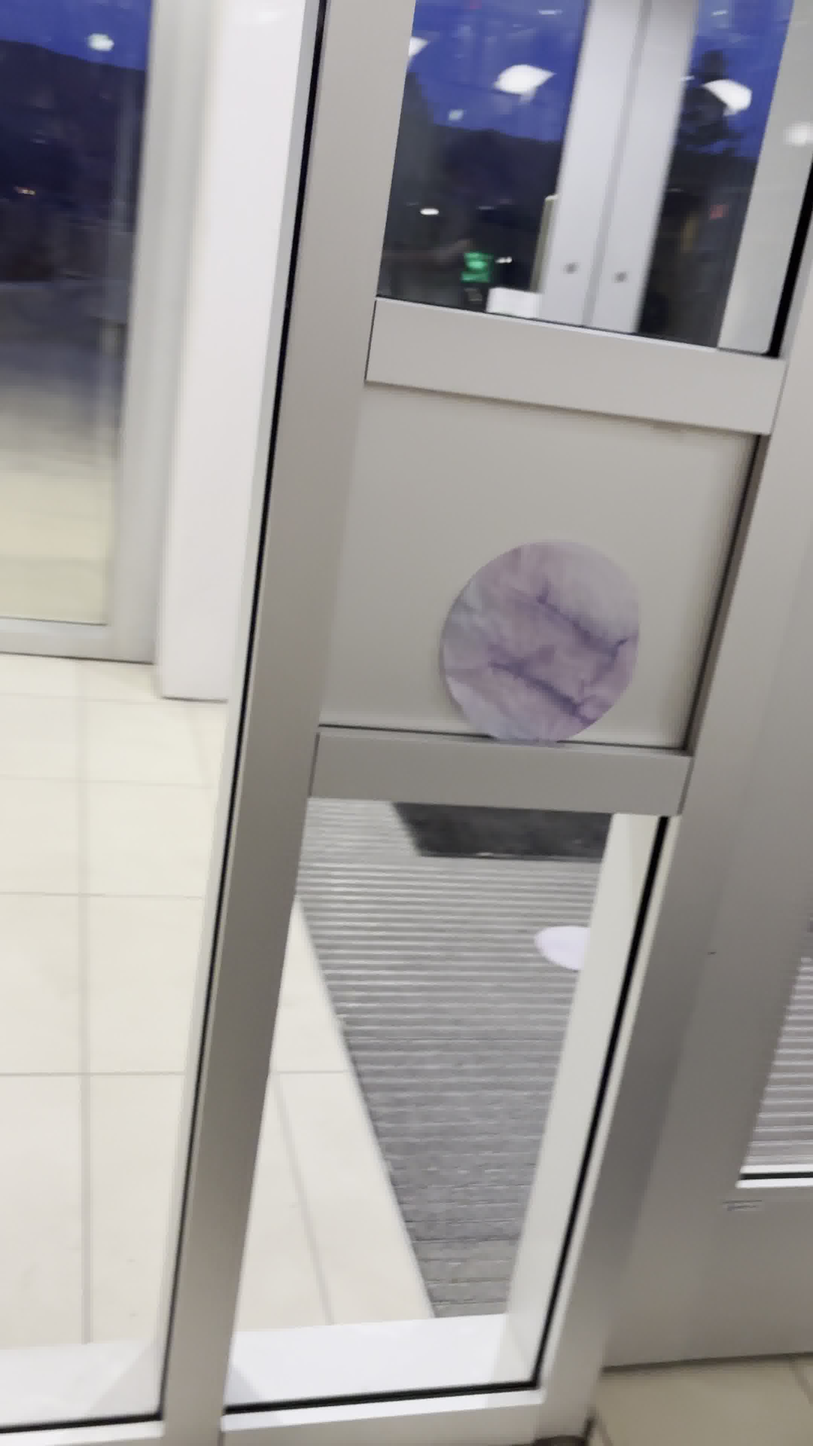Target: (438, 535, 643, 750)
